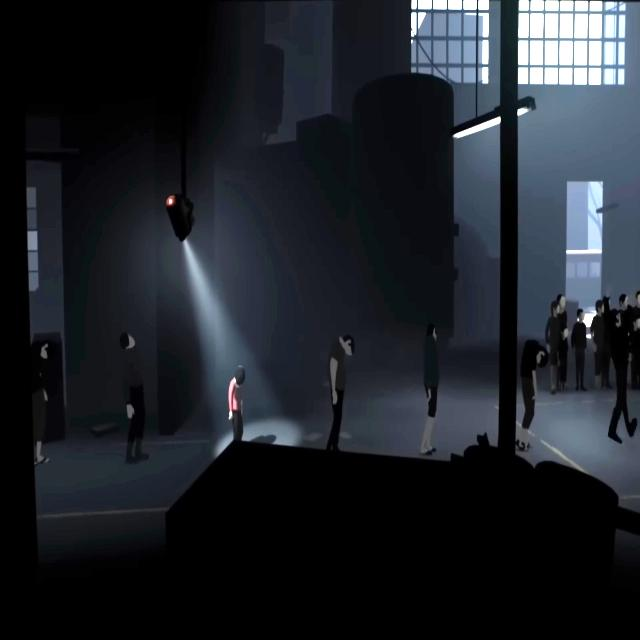boy: (228, 365, 245, 440)
human: (545, 301, 560, 394), (571, 309, 587, 391), (590, 299, 604, 391), (556, 327, 568, 393), (557, 294, 567, 326), (618, 294, 628, 312), (636, 290, 640, 310)
zombie: (608, 308, 638, 444), (120, 332, 149, 464), (516, 339, 549, 452), (324, 334, 355, 450), (420, 323, 440, 455), (31, 339, 51, 466)
